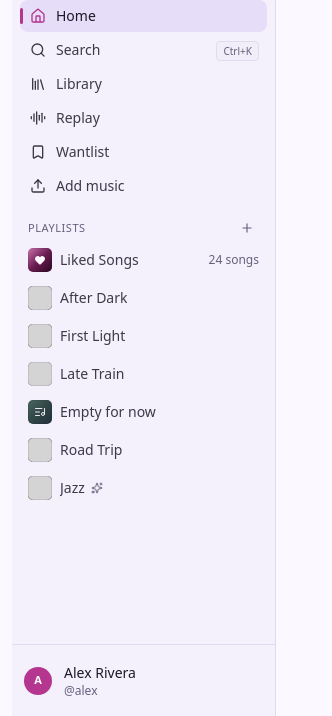
Sidebar › account menu › goes to the admin panel
This screenshot has width=332, height=716.
Click the button with aria-label "Account, Alex Rivera": (144, 680) [20,660,267,700]
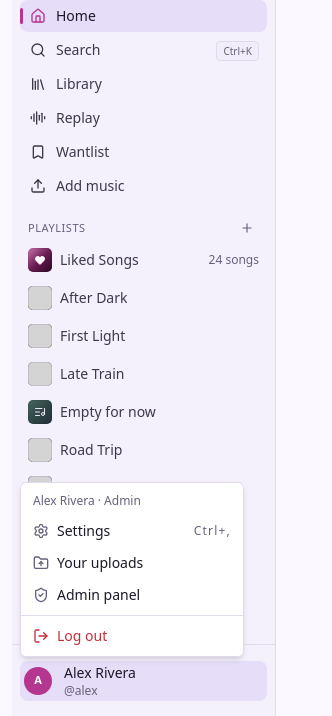
Click the menu item "Admin panel": (87, 594) [33,585,140,604]
(page scrolled)
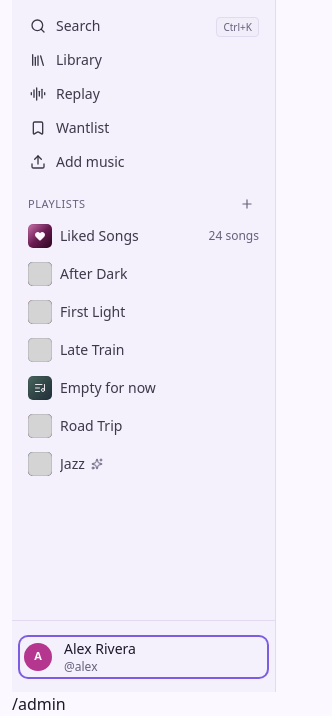
Now the text with test id "where" reads "/admin", box [12,693,66,715]
